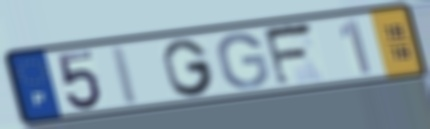1: (337, 17, 374, 76)
5: (55, 48, 102, 111)
F: (260, 19, 318, 89)
G: (160, 37, 218, 98), (214, 31, 271, 90)
I: (107, 43, 143, 108)
